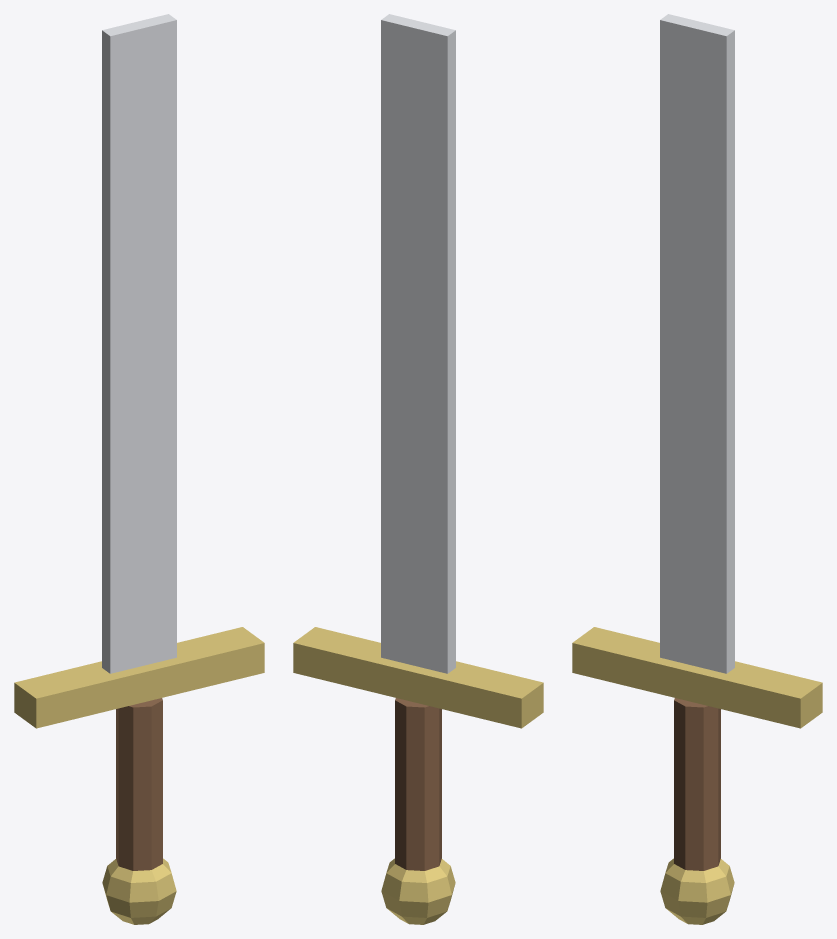
The model's file is sword.glb.
3 renders of one model, left to right at view 1: azimuth 30°, elevation 25°; view 2: azimuth 150°, elevation 25°; view 3: azimuth 330°, elevation 25°, orthographic.
Visible parts, largest first — view 1: SwordBlade, SwordGuard, SwordGrip, SwordPommel; view 2: SwordBlade, SwordGuard, SwordGrip, SwordPommel; view 3: SwordBlade, SwordGuard, SwordGrip, SwordPommel.
Boxes of the visible parts, bbox=[...] form: SwordBlade: bbox=[102, 14, 176, 673]; SwordGuard: bbox=[14, 627, 264, 728]; SwordGrip: bbox=[116, 698, 162, 870]; SwordPommel: bbox=[102, 858, 176, 924]; SwordBlade: bbox=[381, 14, 455, 673]; SwordGuard: bbox=[293, 627, 543, 728]; SwordGrip: bbox=[395, 698, 441, 870]; SwordPommel: bbox=[381, 858, 455, 924]; SwordBlade: bbox=[660, 14, 734, 673]; SwordGuard: bbox=[572, 627, 822, 728]; SwordGrip: bbox=[674, 698, 720, 870]; SwordPommel: bbox=[660, 858, 734, 924].
Bounding box in the file's own units: 0.24 × 0.9 × 0.07.
